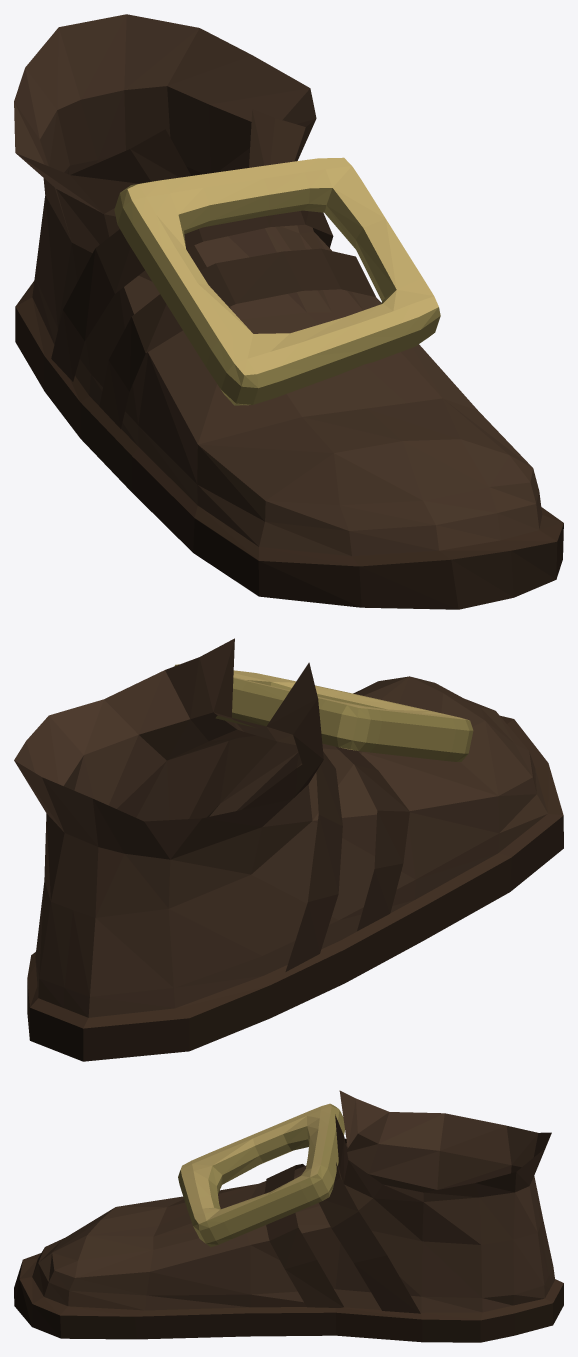
File: bigBuckleShoeFemale.glb
The picture shows the model from 3 angles, top to bottom: view 1: azimuth 30°, elevation 25°; view 2: azimuth 150°, elevation 25°; view 3: azimuth 270°, elevation 25°; orthographic projection. The views are drawn at different scales.
Parts seen in each view (by area): view 1: bigBuckleShoeFemale; view 2: bigBuckleShoeFemale; view 3: bigBuckleShoeFemale.
Boxes of the visible parts, bbox=[...] form: bigBuckleShoeFemale: bbox=[14, 14, 563, 609]; bigBuckleShoeFemale: bbox=[14, 638, 563, 1061]; bigBuckleShoeFemale: bbox=[14, 1090, 563, 1342].
Bounding box in the file's own units: 0.1119 × 0.1102 × 0.278.
